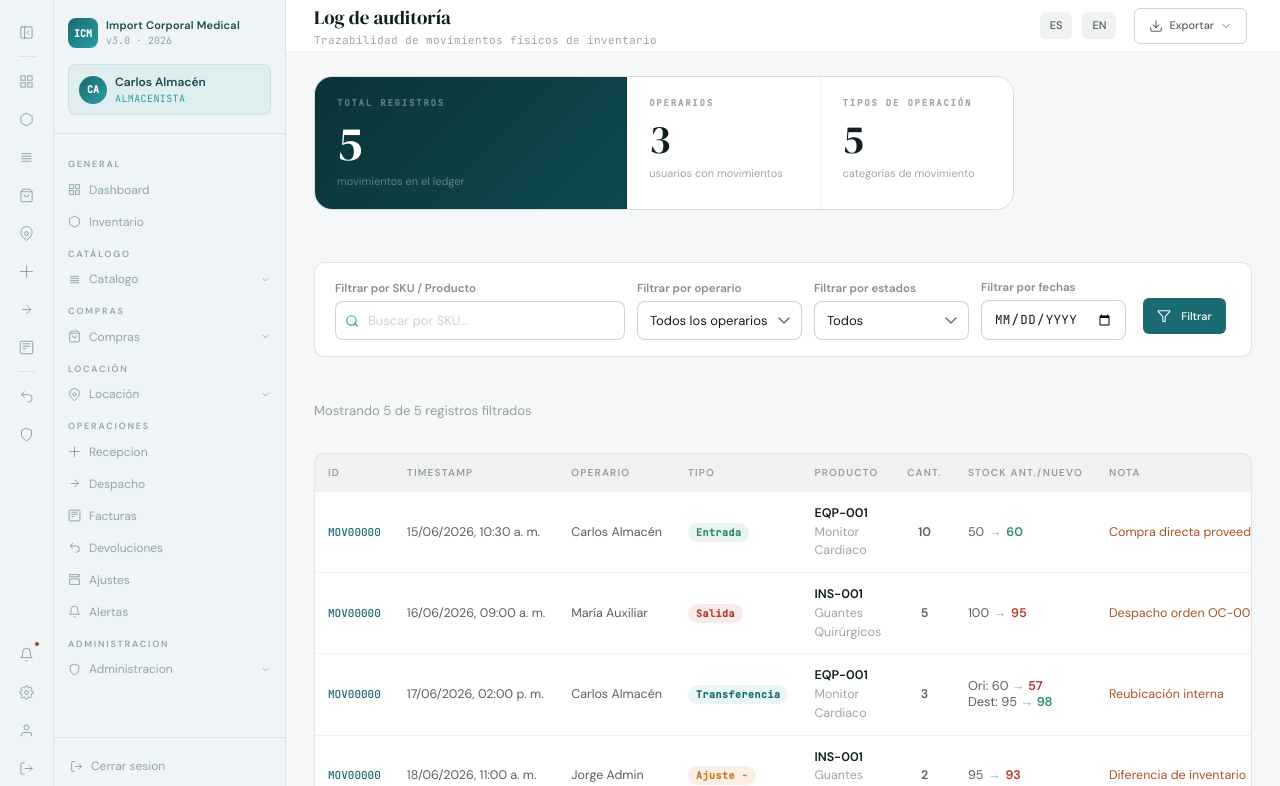
Test: AuditPage — integración › Búsqueda y filtros › debería filtrar por operario
Select "María Auxiliar" in the dropdown "Todos los operarios" below "Filtrar por operario" at coordinates (719, 321), box [637,301,802,340]
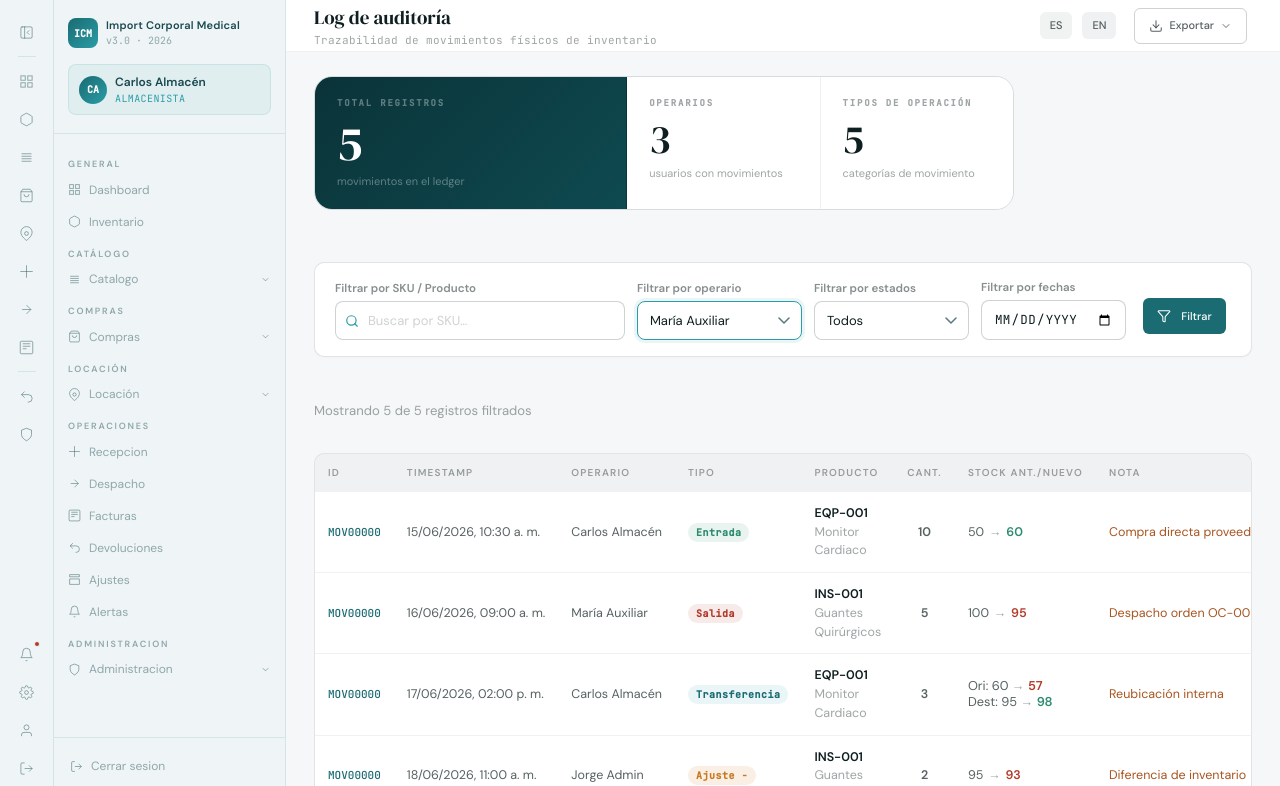
Submit the text "Todos los operarios", box [335,279,1231,340]
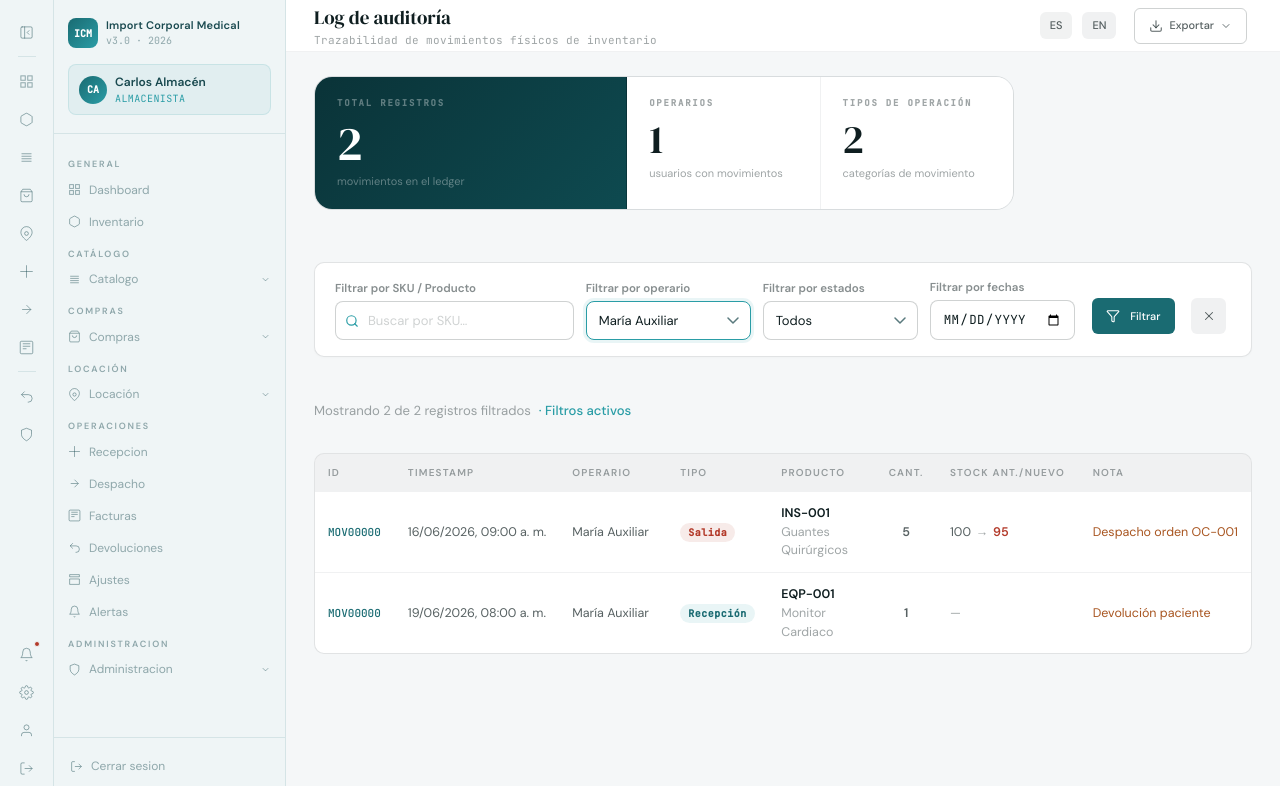
expect the text "· Filtros activos" is shown: met, box [539,402,631,419]
